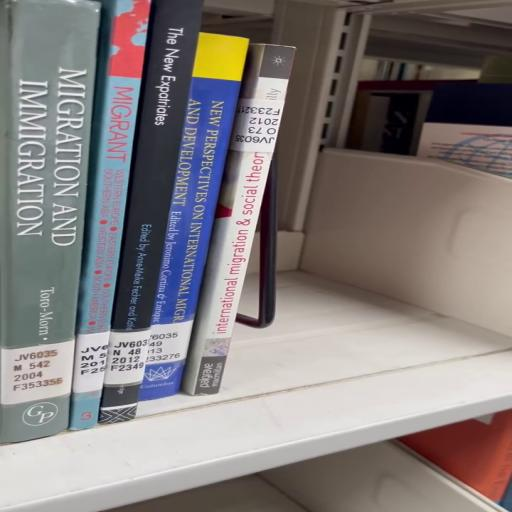reverse: (184, 45, 295, 396), (241, 237, 276, 329)
